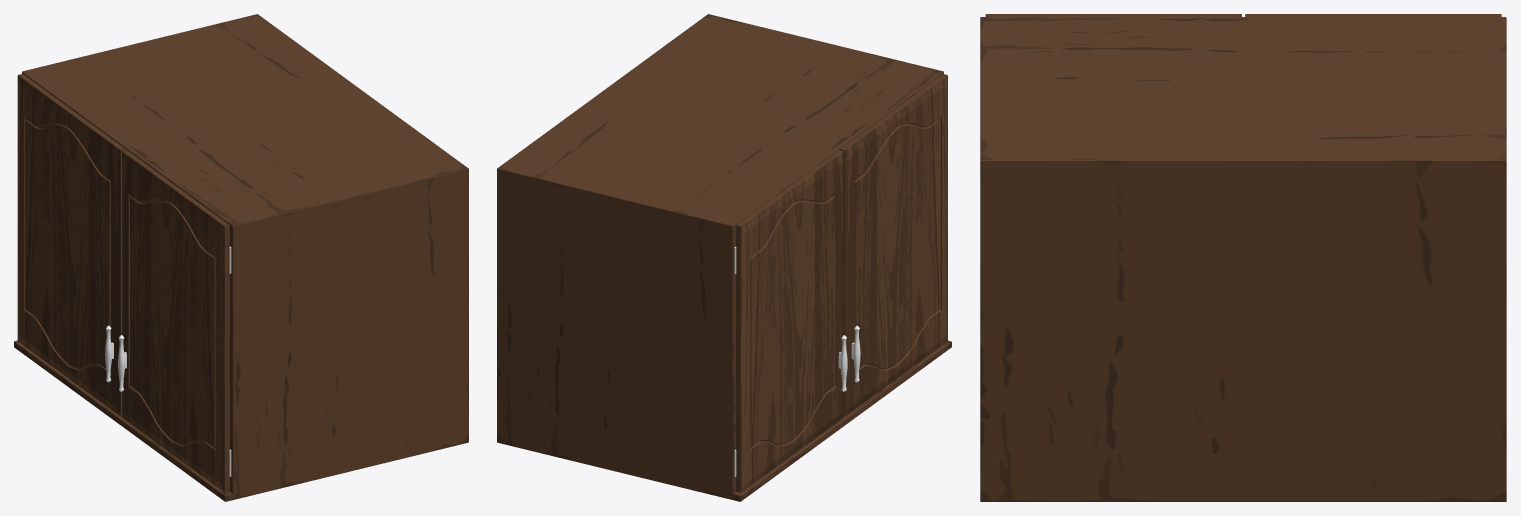
File: top - cabinet - large.fbx
3 renders of one model, left to right at view 1: azimuth 30°, elevation 25°; view 2: azimuth 150°, elevation 25°; view 3: azimuth 270°, elevation 25°, orthographic. The views are drawn at different scales.
Parts seen in each view (by area): view 1: Top - Cab - bottom, cab - door008, cab - door001; view 2: Top - Cab - bottom, cab - door001, cab - door008; view 3: Top - Cab - bottom, cab - door001, cab - door008.
Part boxes in pixels (left/top/right/bottom): Top - Cab - bottom: left=14, top=14, right=468, bottom=501; cab - door008: left=118, top=150, right=229, bottom=492; cab - door001: left=17, top=73, right=125, bottom=416; Top - Cab - bottom: left=497, top=14, right=951, bottom=501; cab - door001: left=736, top=150, right=847, bottom=492; cab - door008: left=840, top=74, right=947, bottom=416; Top - Cab - bottom: left=980, top=17, right=1506, bottom=501; cab - door001: left=1245, top=14, right=1501, bottom=16; cab - door008: left=985, top=14, right=1241, bottom=16.
Bounding box in the file's own units: 103 × 108 × 150.
